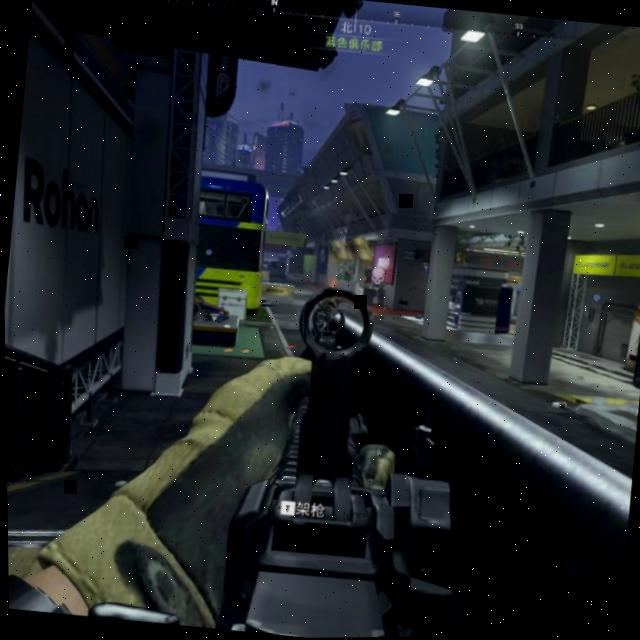MW2_body: (308, 277, 339, 338)
